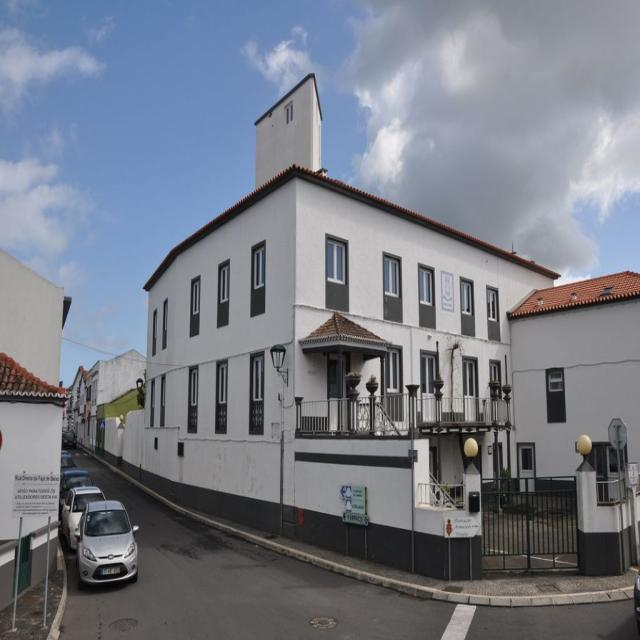car: (72, 500, 137, 582)
